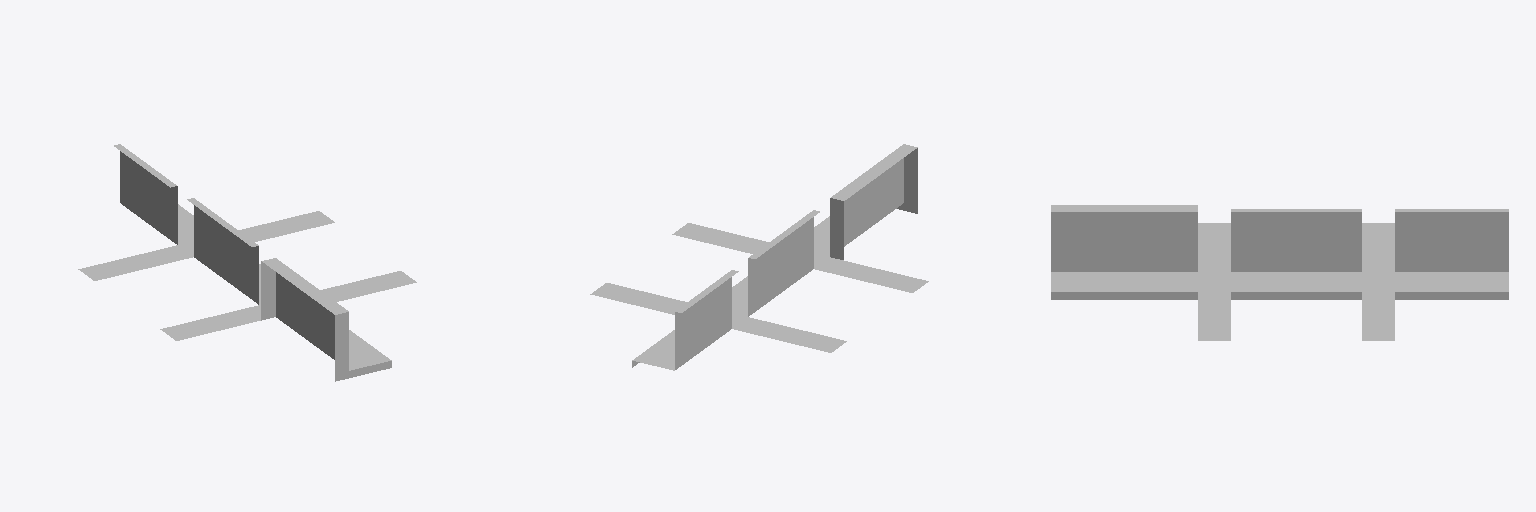
Rendered from HangarDeckSpacePort.obj.
The picture shows the model from 3 angles: view 1: azimuth 30°, elevation 25°; view 2: azimuth 150°, elevation 25°; view 3: azimuth 270°, elevation 25°; orthographic projection.
Parts seen in each view (by area): view 1: Cube; view 2: Cube; view 3: Cube.
Part boxes in pixels (left/top/right/bottom): Cube: left=78, top=144, right=416, bottom=381; Cube: left=590, top=144, right=928, bottom=370; Cube: left=1051, top=205, right=1508, bottom=340.
Bounding box in the file's own units: 17 × 4.5 × 28.